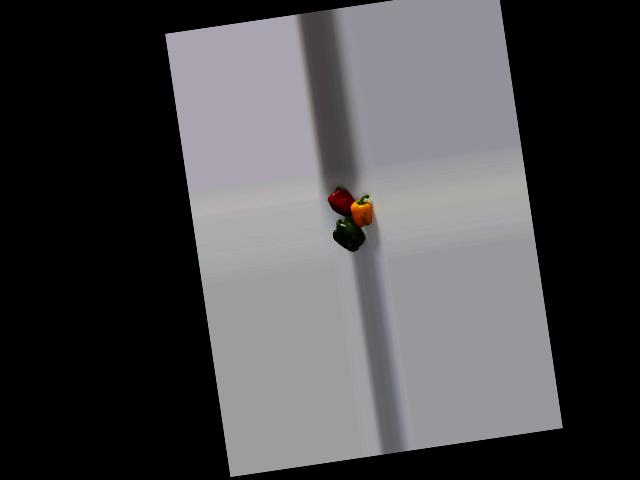bell_pepper: (344, 193, 376, 229)
